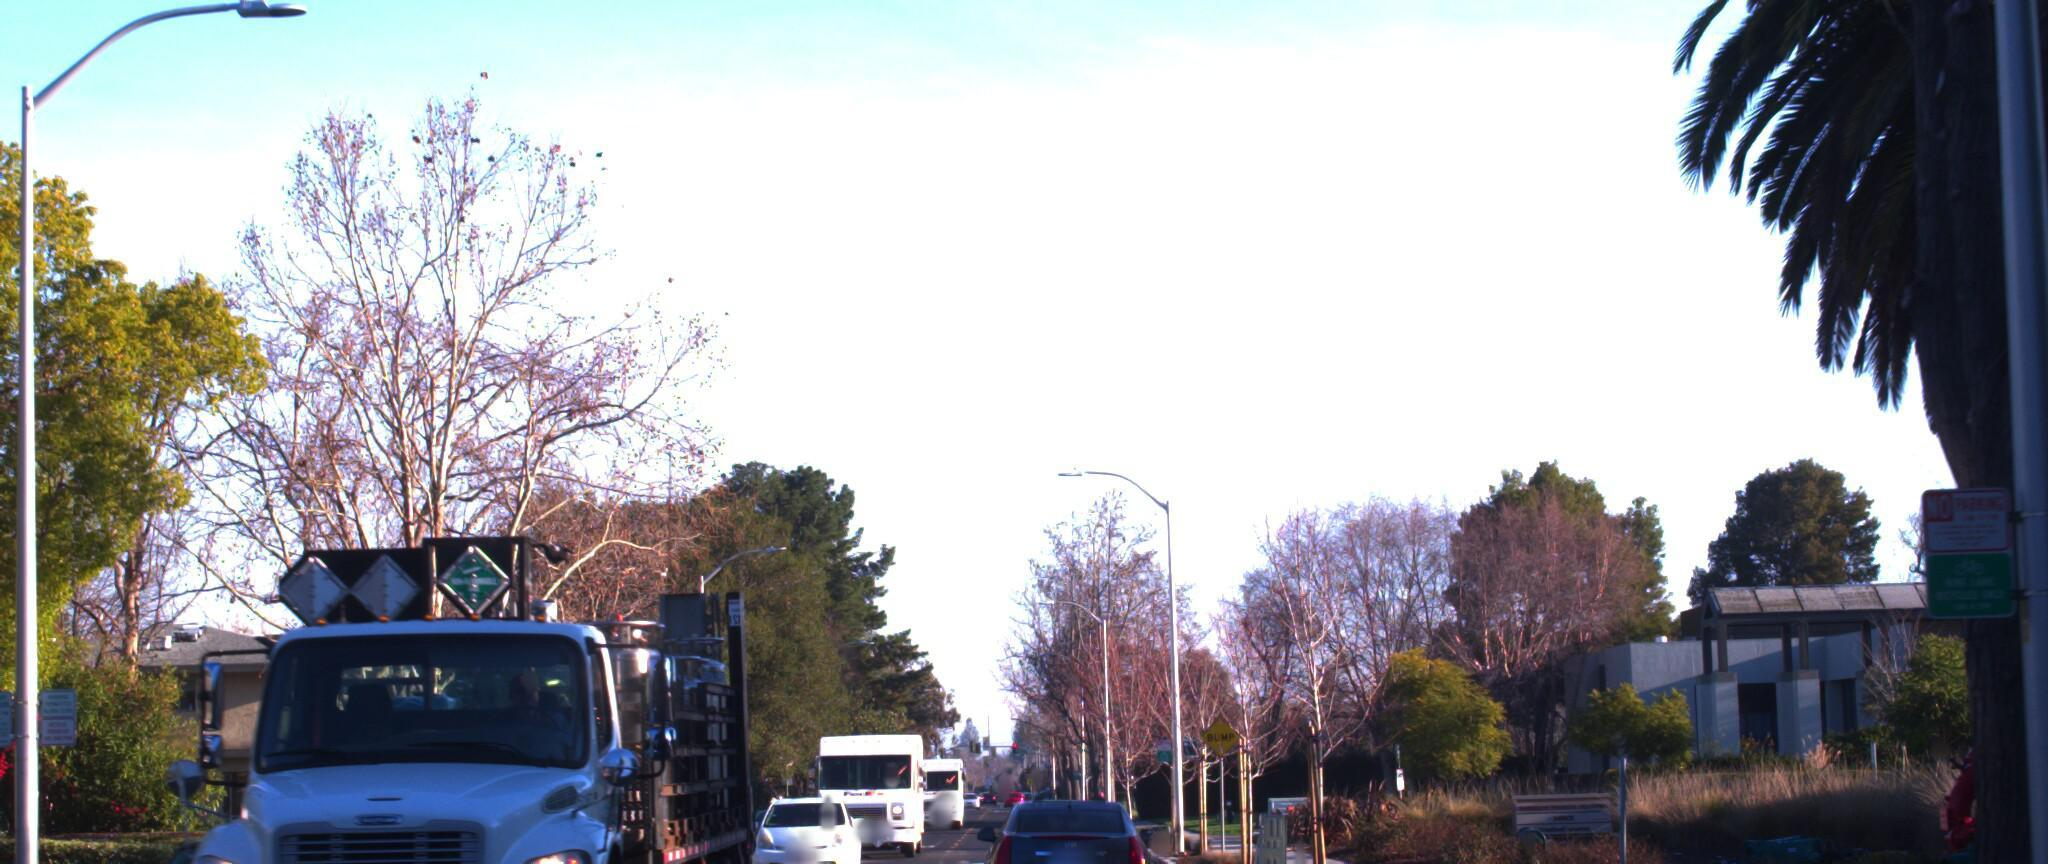car: (61, 801, 377, 864), (973, 777, 1172, 864), (737, 767, 869, 864), (0, 784, 10, 864)
truck: (91, 332, 782, 864), (816, 696, 943, 837)
